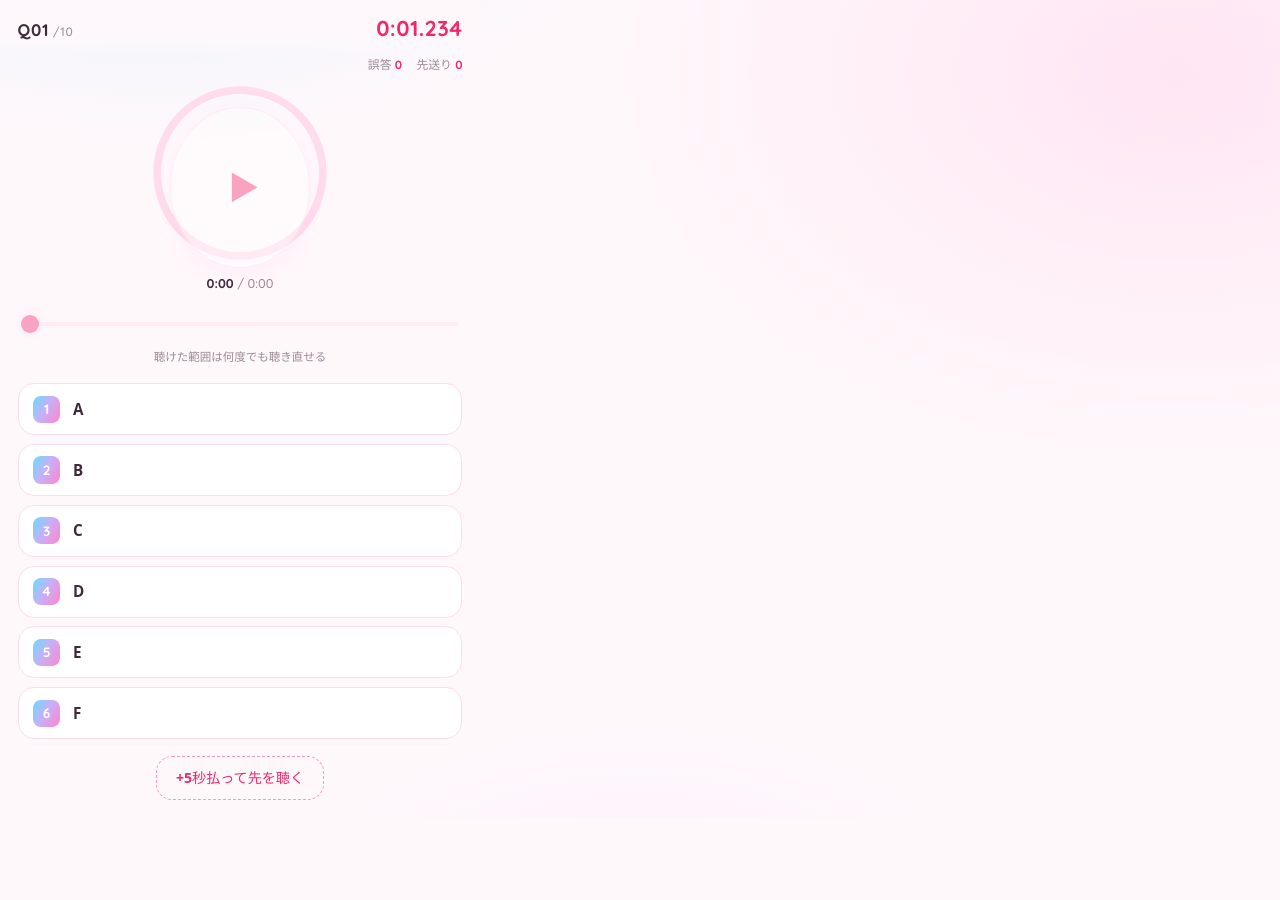
Test: game screens › renders six choices and applies wrong-answer feedback
Click the button "3 C": [47, 531] box [18,505,462,557]
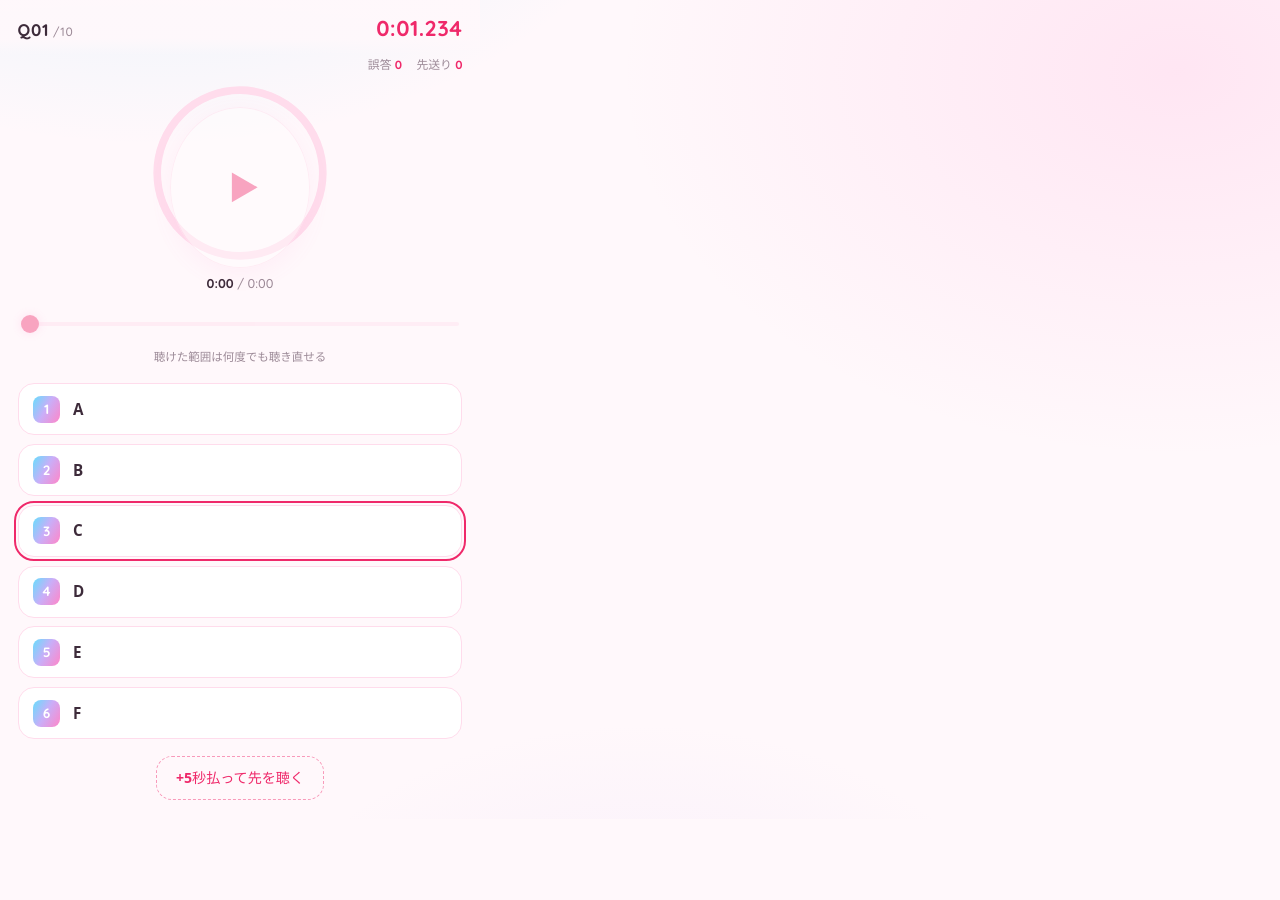
expect the element with class "shake" is shown: met, box [0,75,480,819]
